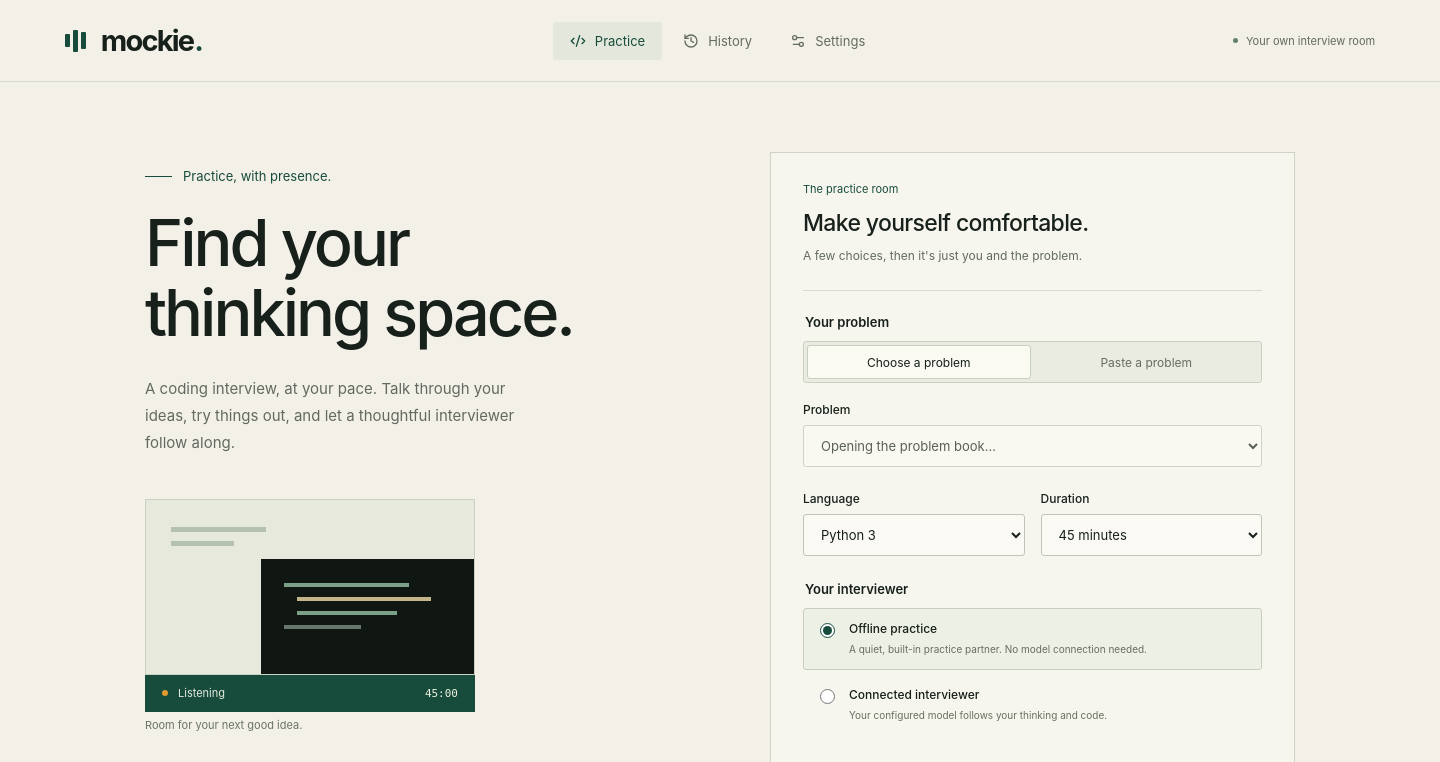
Test case: evidence-based scorecard › shows an unassessed category without inventing a zero or a score bar
Click the button "History" at (718, 40), box [666,22,769,60]
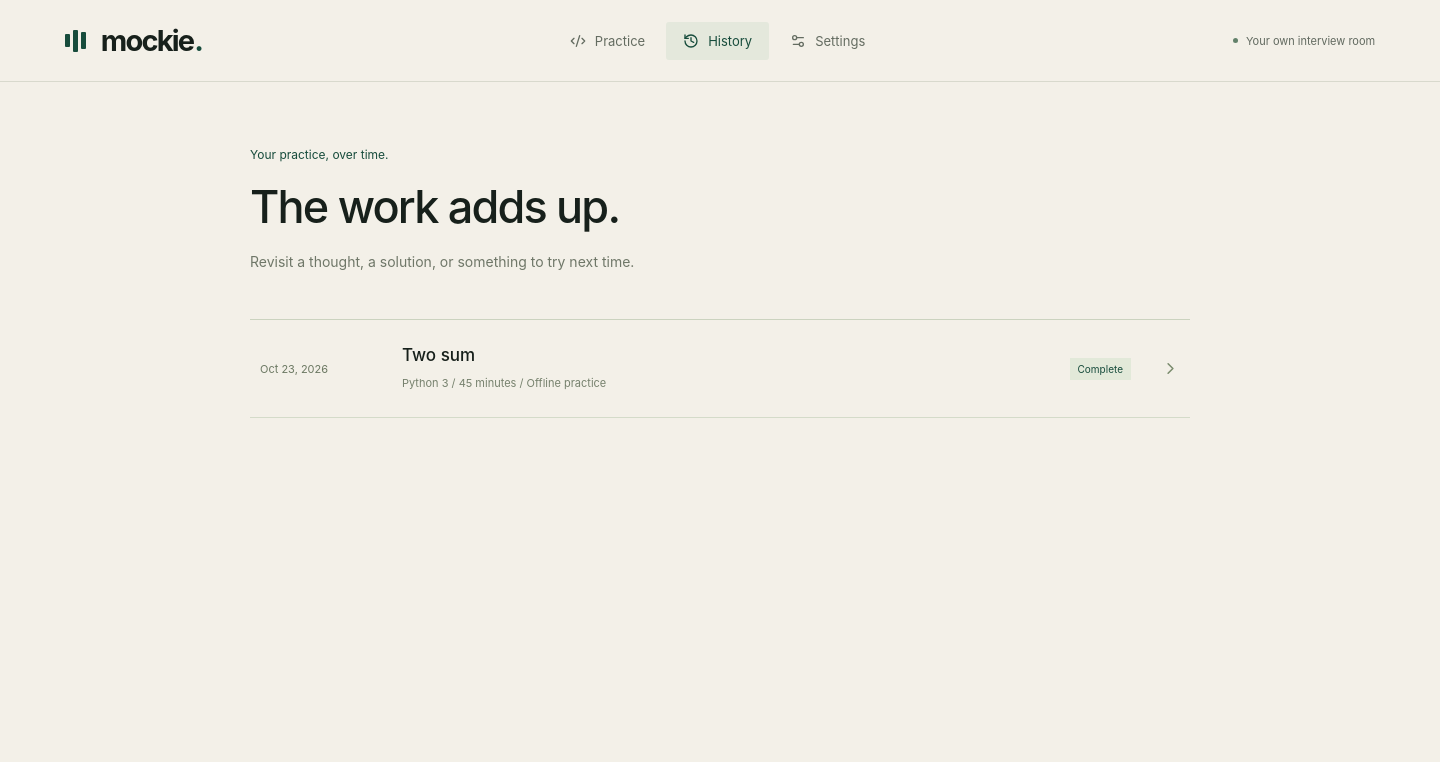
Click the button with aria-label "Open Two sum" at (294, 369), box [250,320,1190,418]
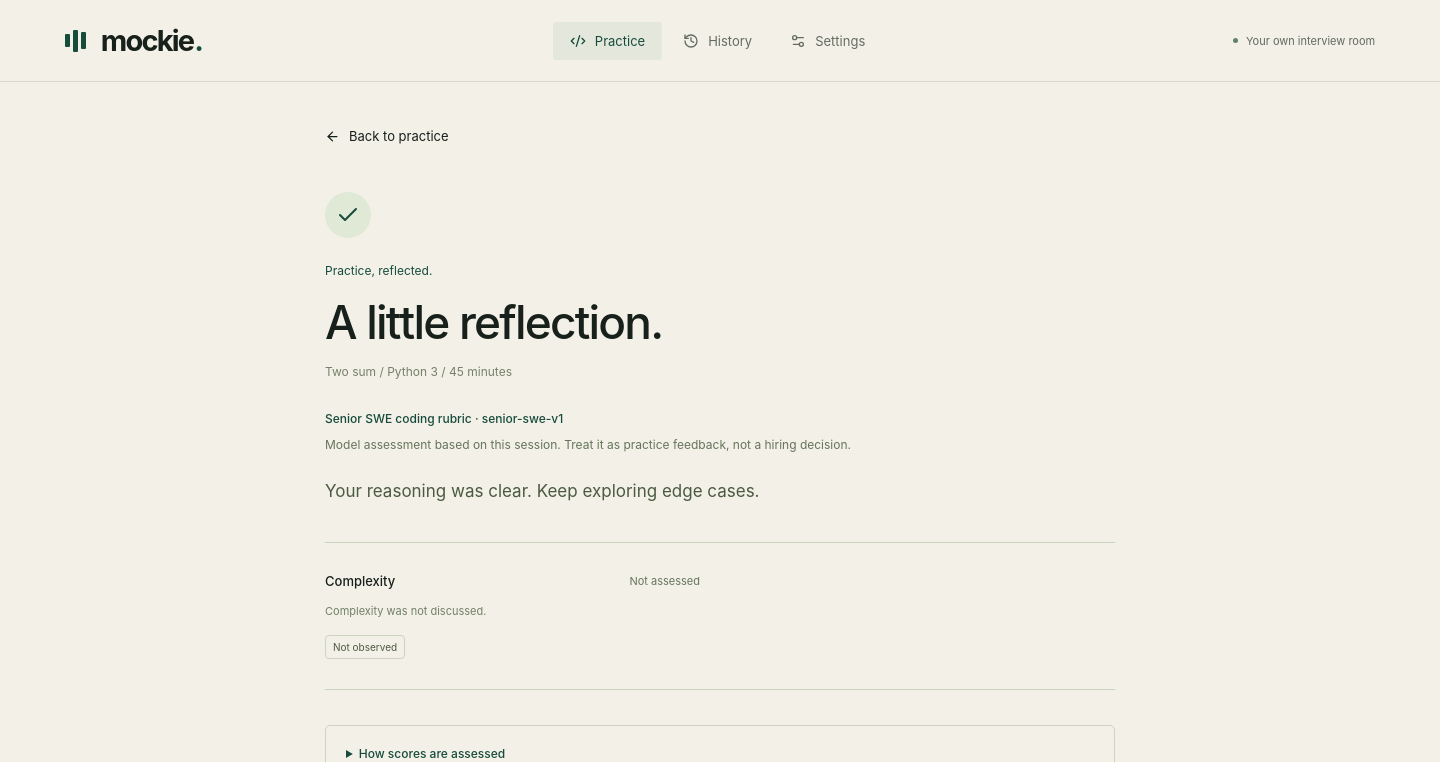
Check: the heading "A little reflection." is shown, box [325,294,662,350]
Check: the text "Not assessed" is shown, box [630,574,700,588]
Check: the element "Complexity" no longer shows "0", box [325,573,700,659]
